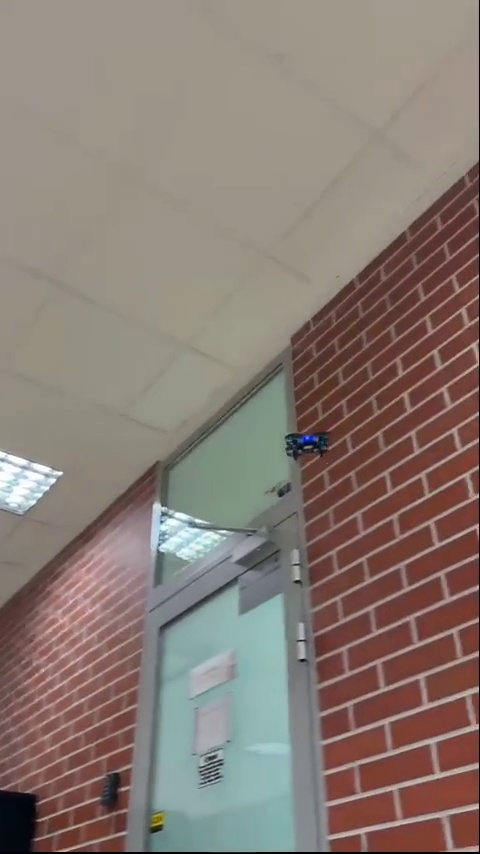drone: (285, 429, 333, 461)
